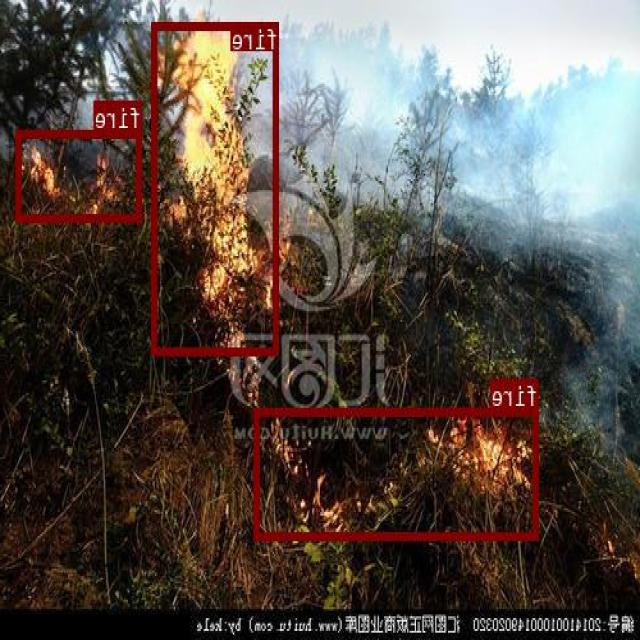fire: (153, 21, 280, 354), (255, 406, 539, 538), (17, 128, 143, 220)
